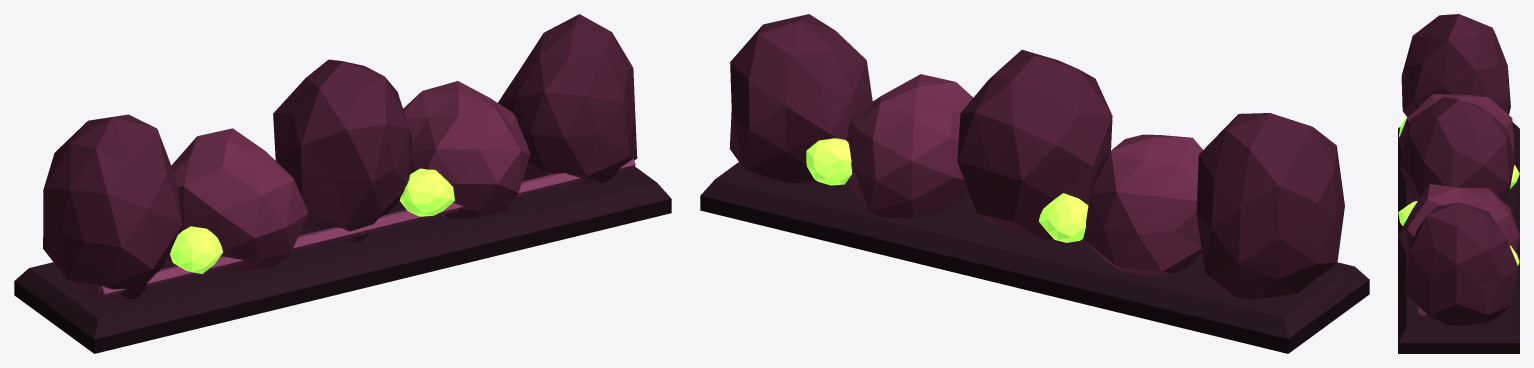
The model's file is creep-chitin-wall.glb.
3 renders of one model, left to right at view 1: azimuth 30°, elevation 25°; view 2: azimuth 150°, elevation 25°; view 3: azimuth 270°, elevation 25°, orthographic. The views are drawn at different scales.
Size of the model in its own units: 5 by 1.6 by 1.2.
